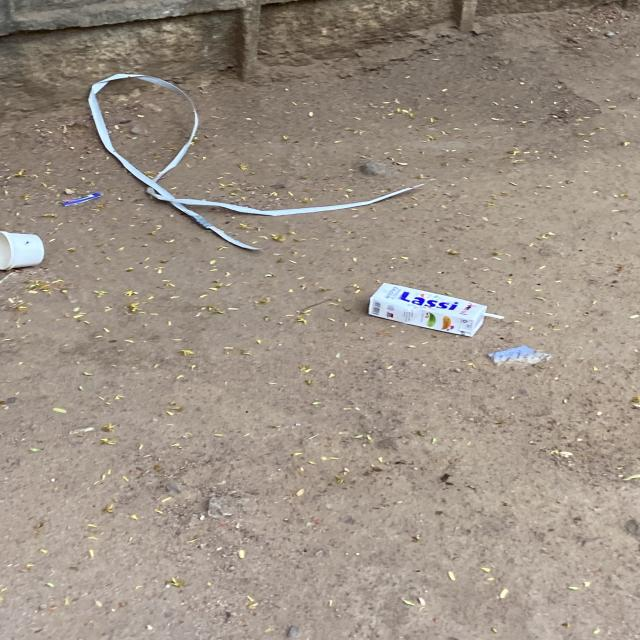paper: (368, 283, 503, 337), (0, 231, 43, 270)
